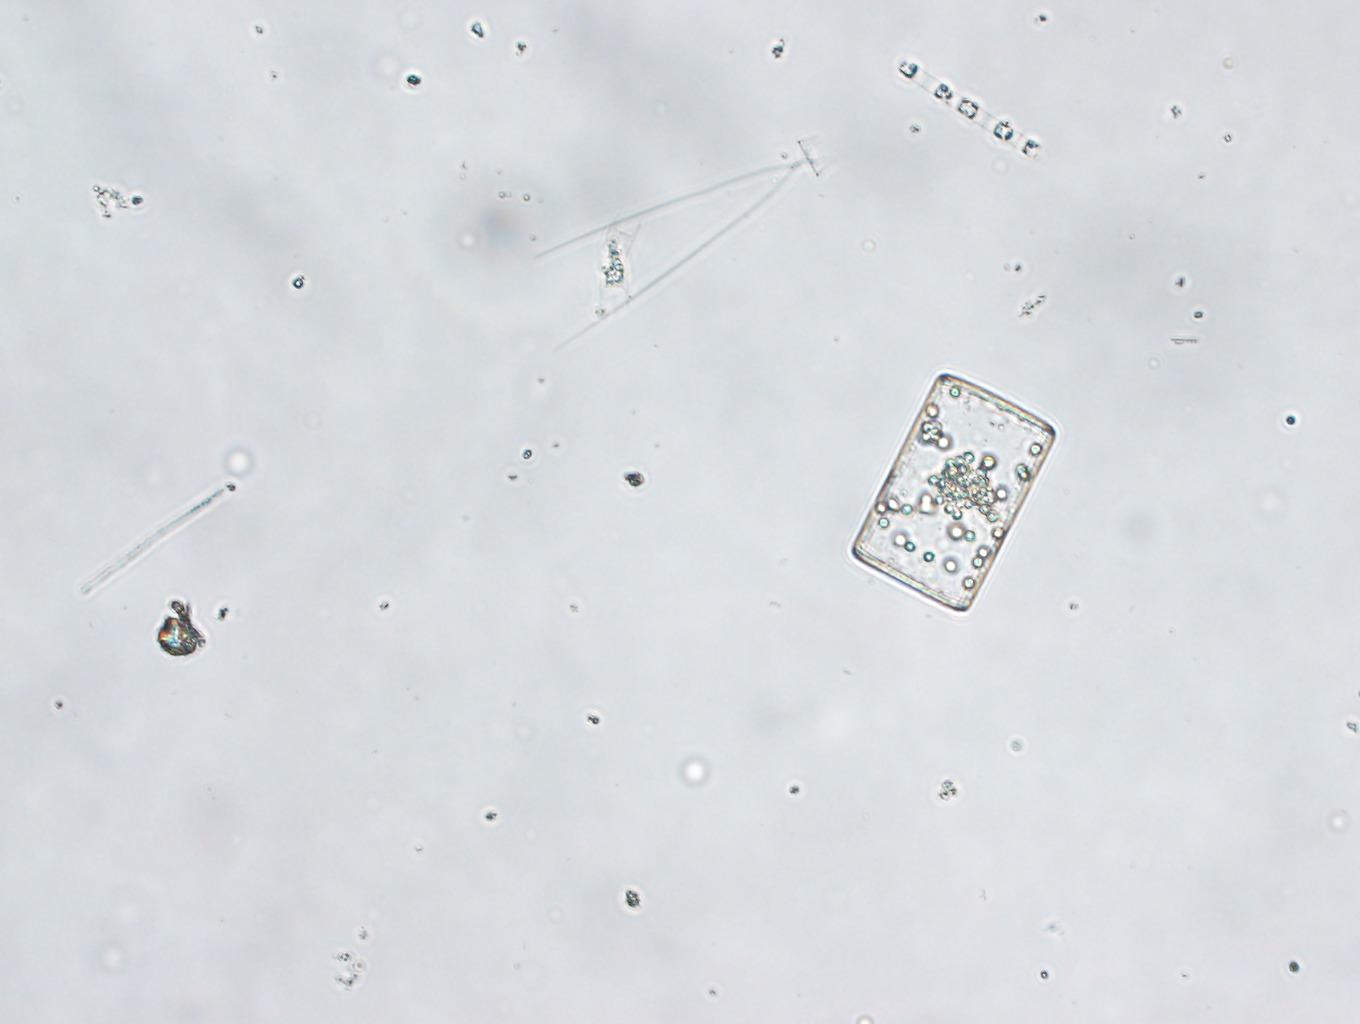chaetoceros: (531, 134, 838, 353)
guinardia flaccida: (849, 372, 1055, 613)
skeletonema: (894, 52, 1045, 161)
